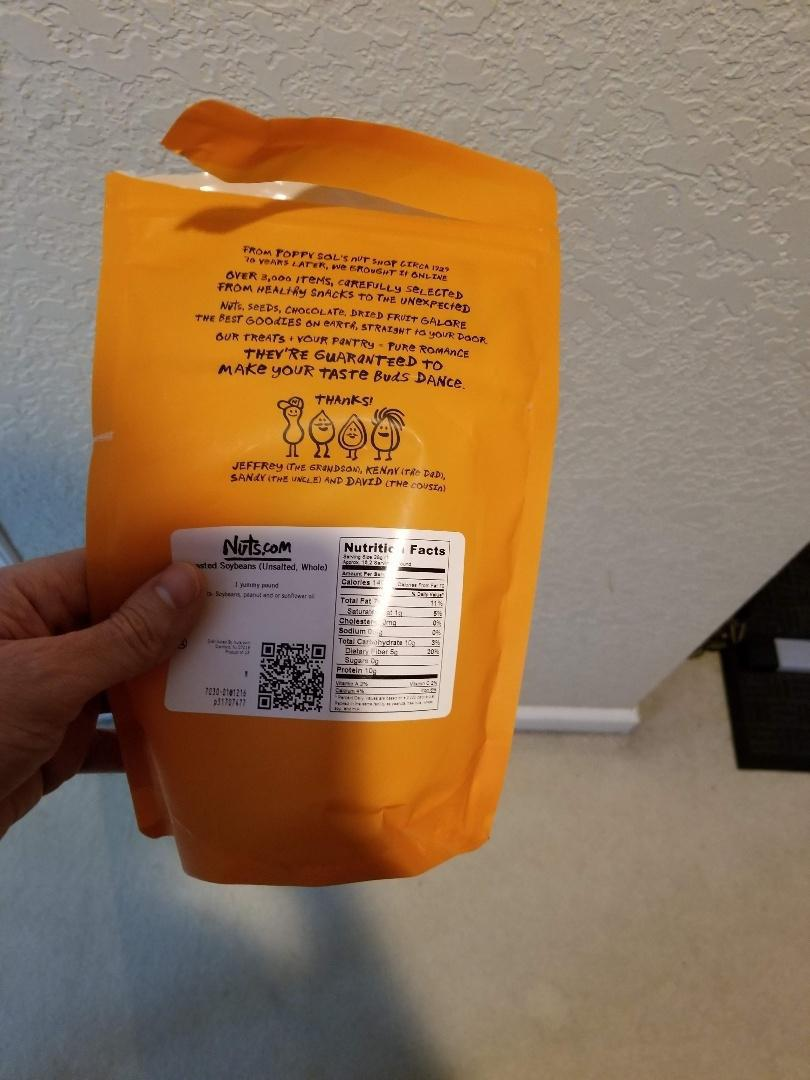Finder pattern: (258, 639, 278, 660), (254, 692, 273, 713), (309, 642, 328, 662)
